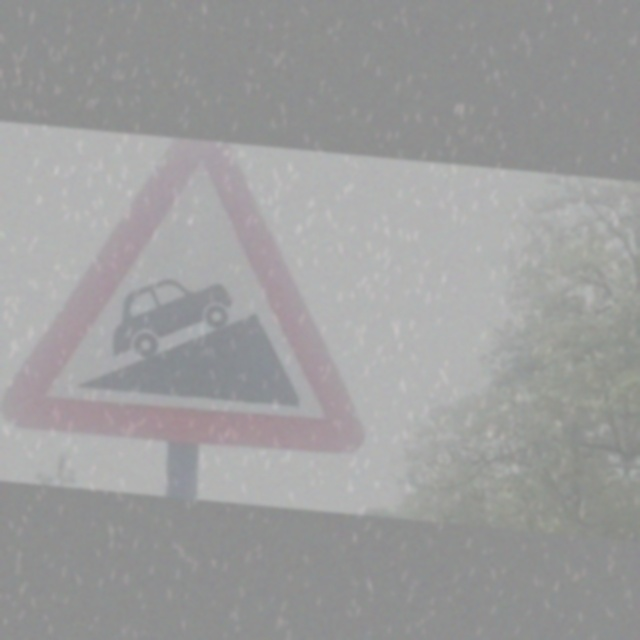Steep_Ascent: (35, 166, 363, 456)
